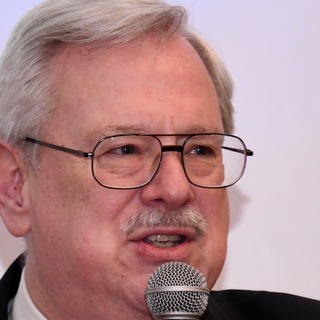eye: (181, 136, 217, 163), (101, 141, 143, 160)
